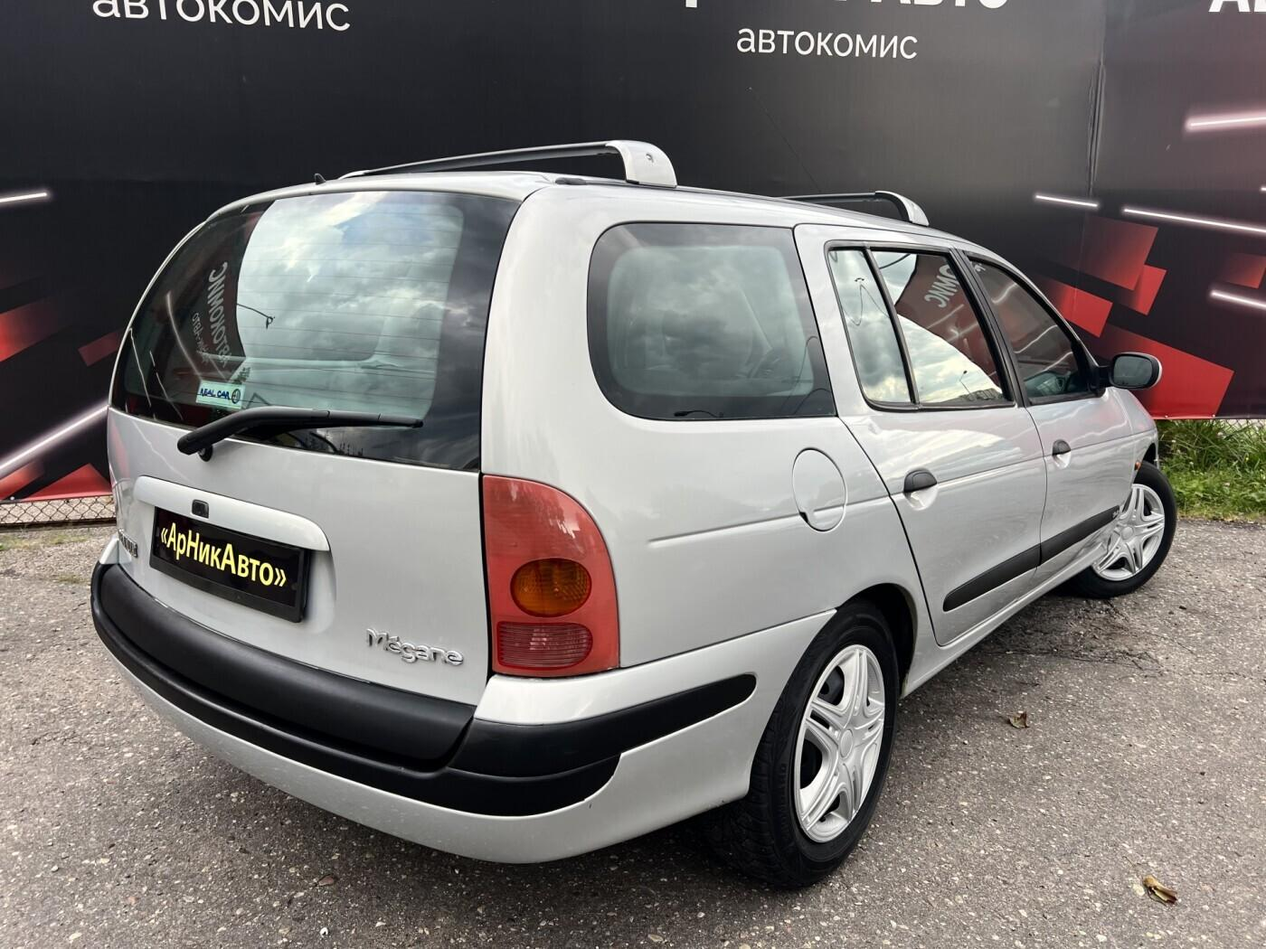Megane_1999-2003: (81, 150, 1183, 879)
